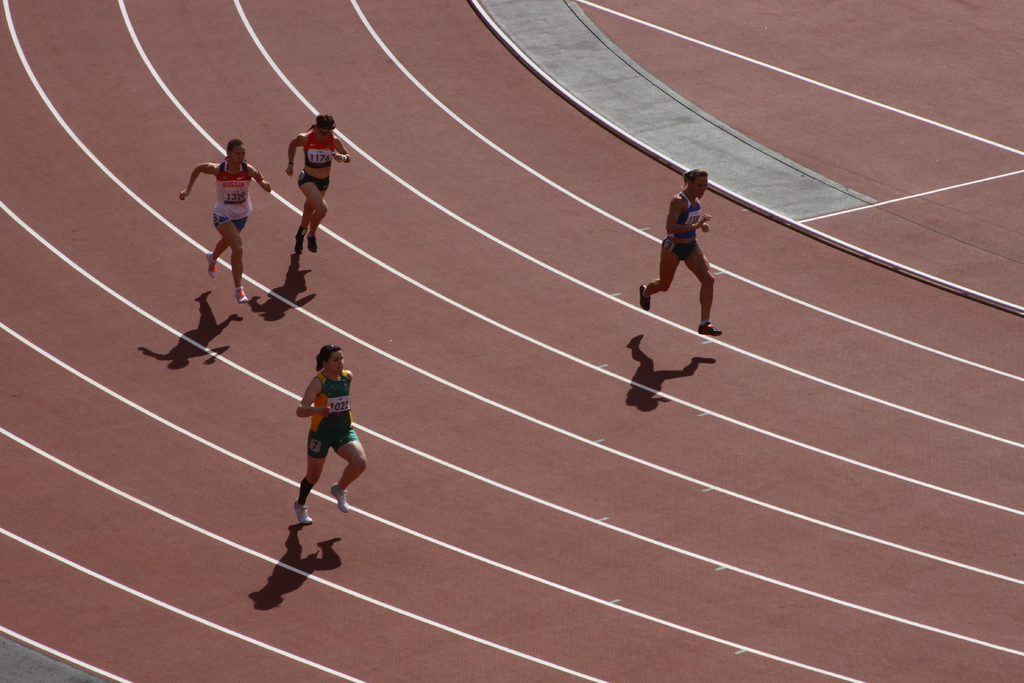Person: (178, 140, 270, 303), (294, 344, 371, 524), (639, 169, 722, 334), (284, 114, 351, 255)
